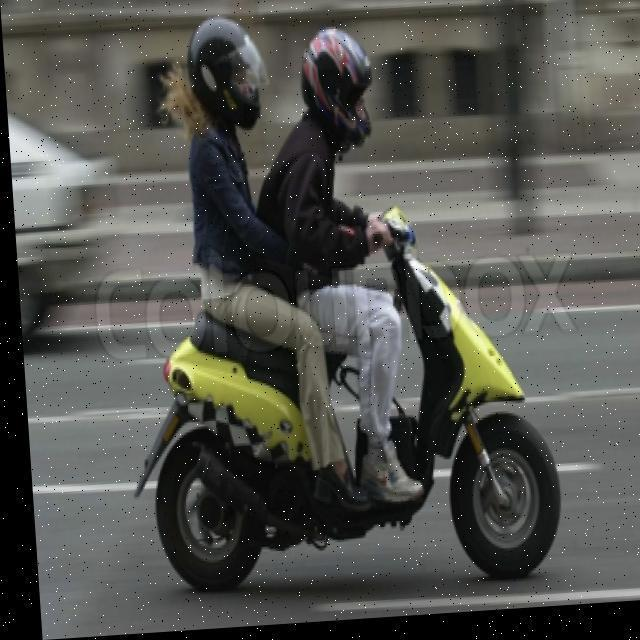Helmet: (187, 8, 270, 137), (298, 27, 378, 160)
